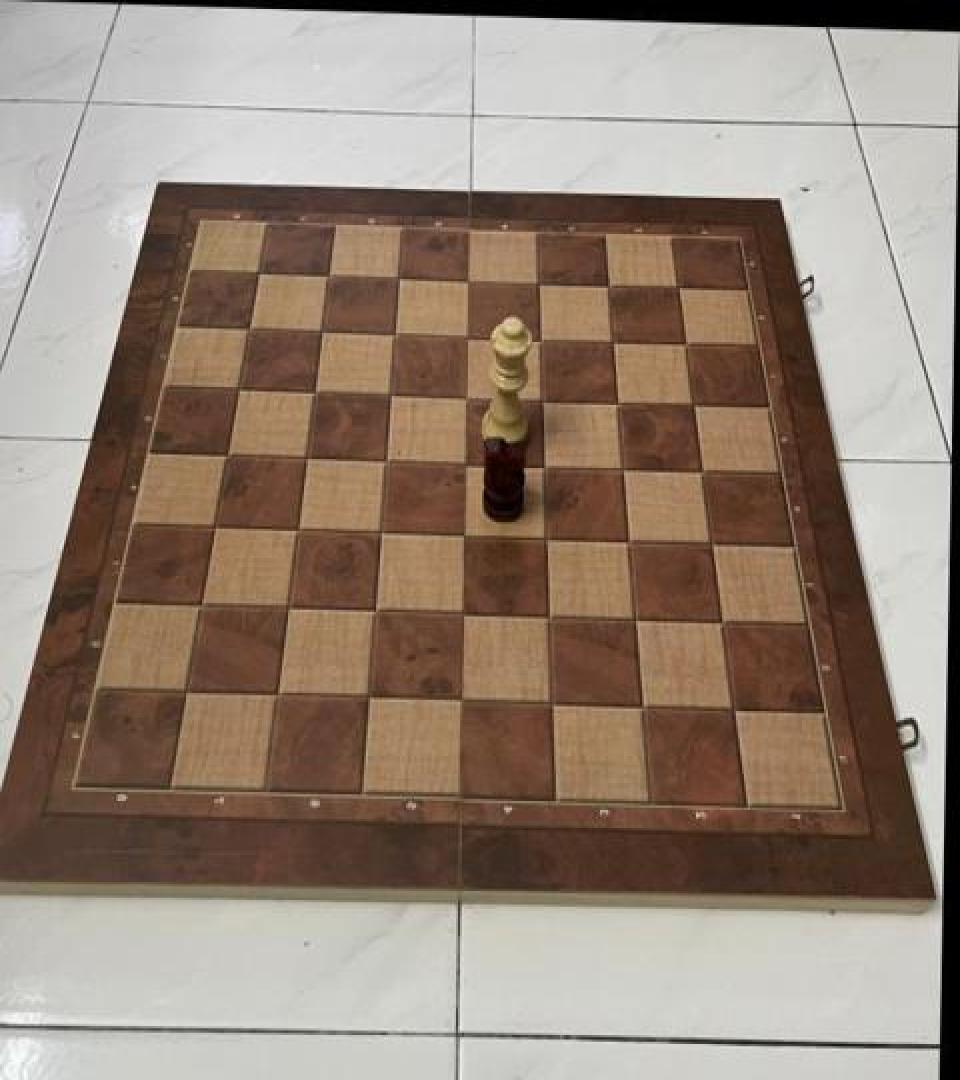xcorner: (186, 588, 218, 625), (627, 689, 659, 726), (241, 256, 273, 292), (312, 258, 344, 294), (383, 260, 415, 296), (453, 263, 485, 299), (523, 266, 555, 302), (594, 268, 626, 304), (664, 271, 696, 307), (232, 312, 264, 348), (305, 314, 337, 350), (379, 316, 411, 352), (452, 320, 484, 356), (525, 322, 557, 358), (598, 325, 630, 361), (671, 328, 703, 364), (222, 372, 254, 408), (298, 374, 330, 410), (375, 378, 407, 414), (451, 380, 483, 416), (527, 382, 559, 418), (603, 386, 635, 422), (679, 388, 711, 424), (211, 438, 243, 474), (291, 441, 323, 477), (370, 443, 402, 479), (450, 446, 482, 482), (529, 449, 561, 485), (608, 452, 640, 488), (687, 454, 719, 490), (199, 510, 231, 546), (282, 513, 314, 549), (366, 515, 398, 551), (449, 518, 481, 554), (531, 521, 563, 557), (614, 524, 646, 560), (696, 526, 728, 562), (273, 592, 305, 628), (360, 594, 392, 630), (447, 598, 479, 634), (534, 600, 566, 636), (620, 603, 652, 639), (706, 605, 738, 641), (172, 675, 204, 711), (263, 677, 295, 713), (355, 680, 387, 716), (446, 684, 478, 720), (536, 686, 568, 722), (717, 692, 749, 728)
